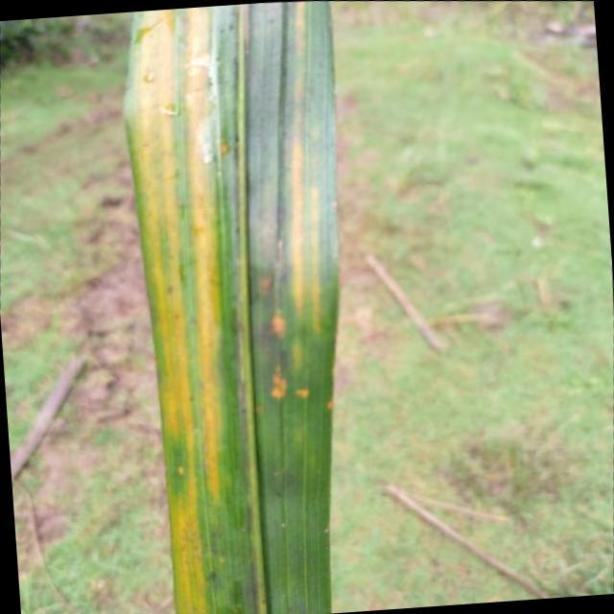Megnesium: (118, 0, 342, 614)
